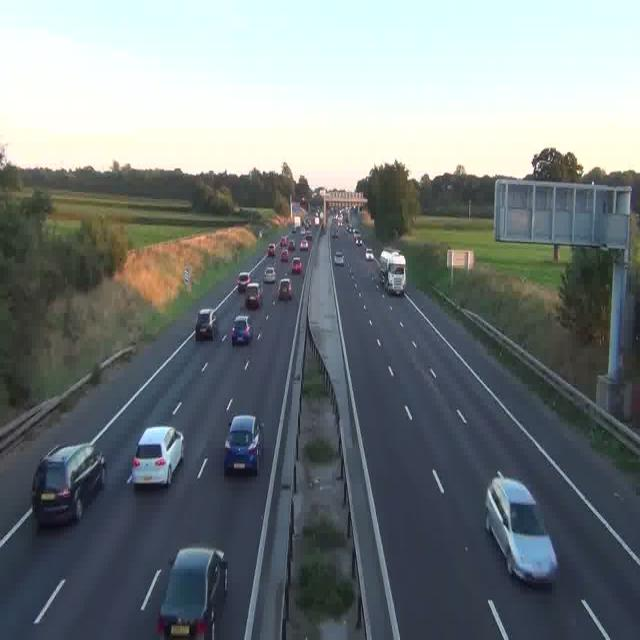car: (485, 477, 557, 584), (157, 546, 228, 639), (32, 444, 104, 526), (130, 426, 184, 485), (224, 415, 263, 474), (195, 308, 219, 340), (231, 313, 253, 345), (244, 284, 261, 308), (278, 278, 292, 300), (237, 271, 251, 290), (264, 265, 276, 282), (290, 258, 302, 274), (335, 252, 345, 265), (365, 248, 375, 261), (280, 248, 290, 261), (300, 238, 308, 251), (266, 244, 274, 257), (352, 234, 360, 245), (332, 230, 338, 239)
truck: (378, 250, 406, 293)
